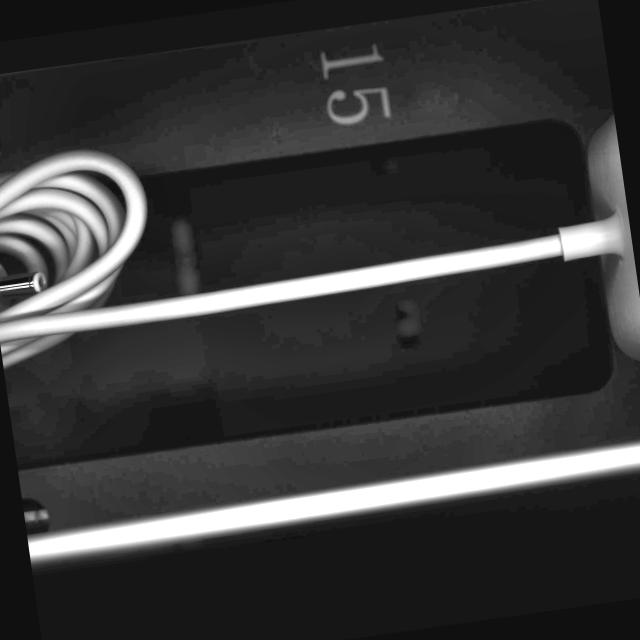Cable: (0, 73, 640, 463)
